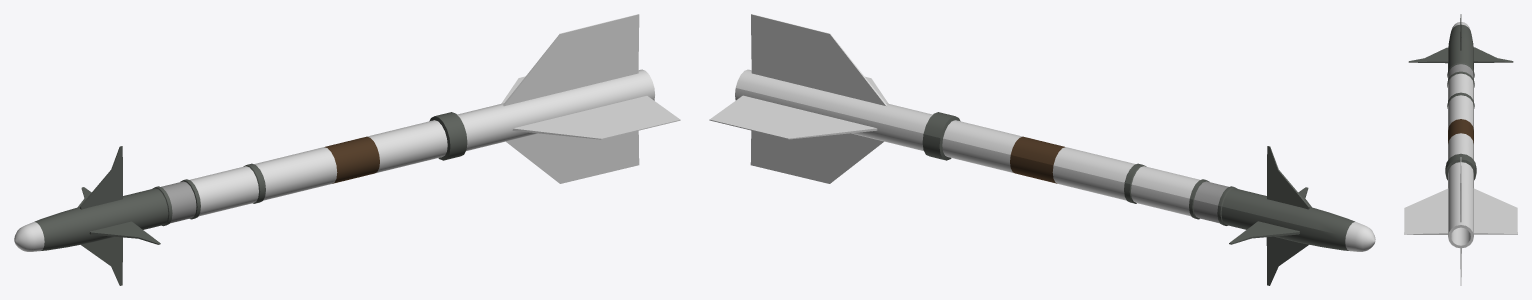
The model's file is Missile.fbx.
The picture shows the model from 3 angles, left to right: view 1: azimuth 30°, elevation 25°; view 2: azimuth 150°, elevation 25°; view 3: azimuth 270°, elevation 25°; orthographic projection. The views are drawn at different scales.
Visible parts, largest first — view 1: MissileA; view 2: MissileA; view 3: MissileA.
Boxes of the visible parts, x1,y1,x2,y2 form: MissileA: (14, 14, 680, 285); MissileA: (709, 14, 1375, 285); MissileA: (1404, 14, 1517, 285).
Size of the model in its own units: 272 by 62.13 by 62.13.
